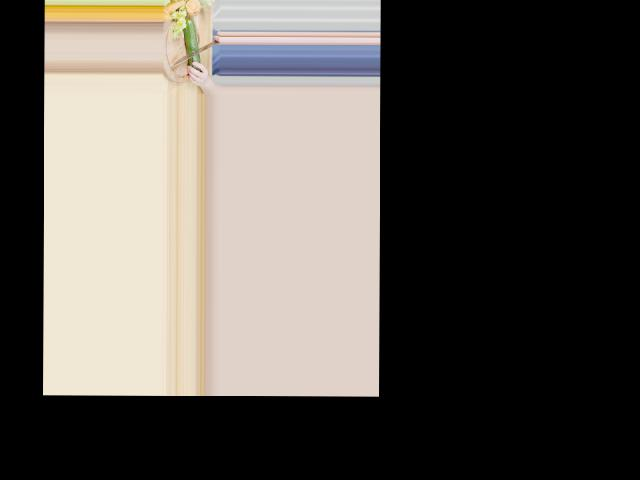cucumber: (183, 17, 200, 71)
